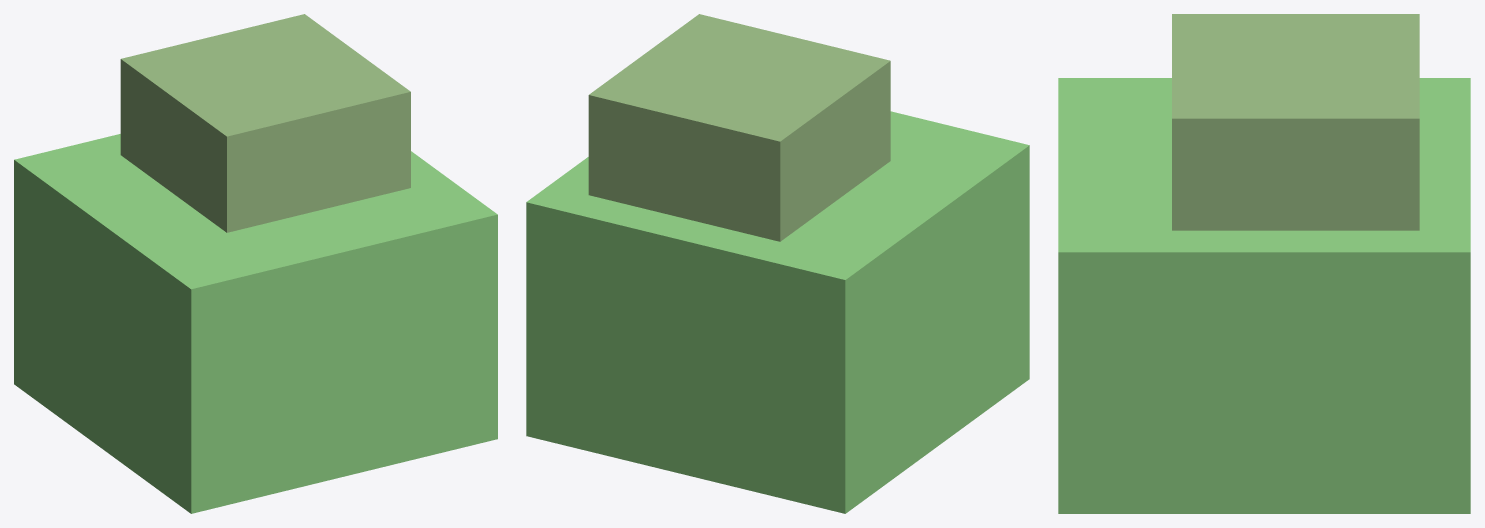
File: Prop_Dress_AMF_Bush_V16.glb
The picture shows the model from 3 angles, left to right: view 1: azimuth 30°, elevation 25°; view 2: azimuth 150°, elevation 25°; view 3: azimuth 270°, elevation 25°; orthographic projection. The views are drawn at different scales.
Parts seen in each view (by area): view 1: Prop_Dress_AMF_Bush_V16; view 2: Prop_Dress_AMF_Bush_V16; view 3: Prop_Dress_AMF_Bush_V16.
Boxes of the visible parts, x1,y1,x2,y2 form: Prop_Dress_AMF_Bush_V16: (14,14,497,513); Prop_Dress_AMF_Bush_V16: (526,14,1029,513); Prop_Dress_AMF_Bush_V16: (1058,14,1470,513).
Bounding box in the file's own units: 1.32 × 1.32 × 1.32.
